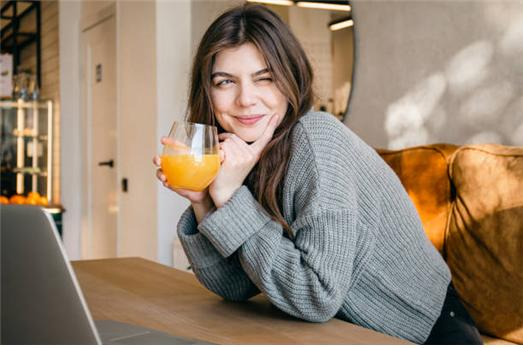alcohol: (159, 119, 223, 196)
